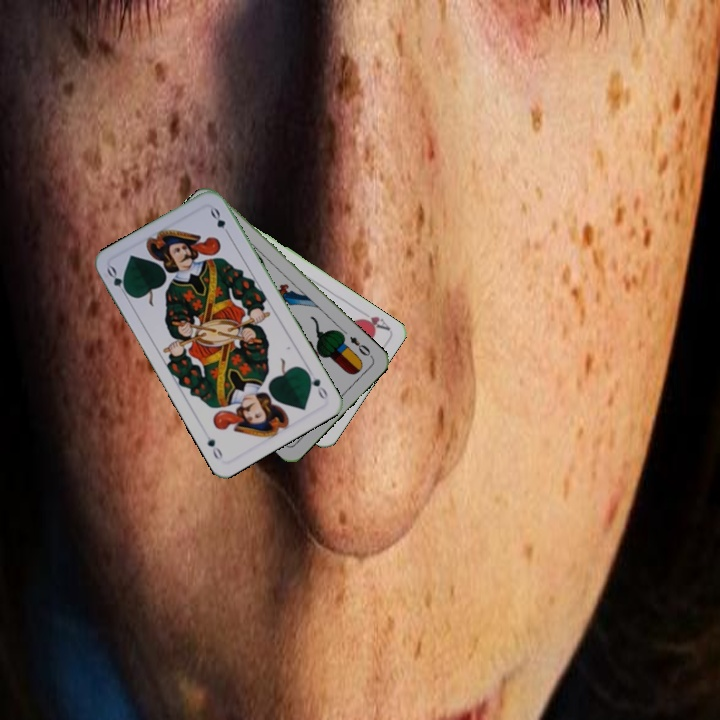EO: (345, 332, 375, 360)
GO: (102, 262, 133, 300), (302, 365, 330, 402)
HA: (353, 306, 392, 333)
